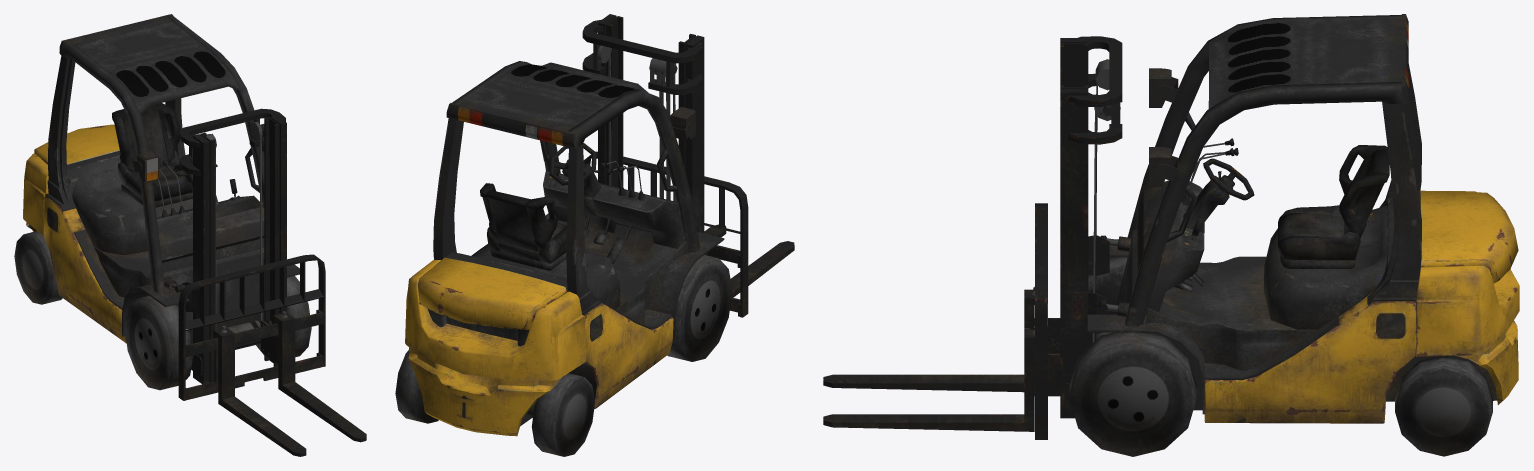
File: forklift.glb
The picture shows the model from 3 angles, left to right: view 1: azimuth 30°, elevation 25°; view 2: azimuth 150°, elevation 25°; view 3: azimuth 270°, elevation 25°; orthographic projection. The views are drawn at different scales.
Parts seen in each view (by area): view 1: Loader_car; view 2: Loader_car; view 3: Loader_car.
Boxes of the visible parts, x1,y1,x2,y2 form: Loader_car: (14, 14, 366, 456); Loader_car: (395, 14, 794, 456); Loader_car: (823, 14, 1519, 456).
Size of the model in its own units: 1.08 by 1.94 by 3.4.
Materials: 1 (1 with a texture image).
